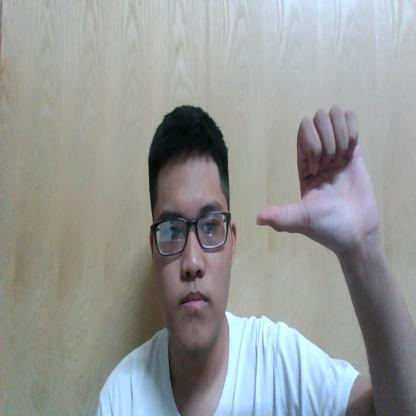right: (257, 104, 377, 252)
